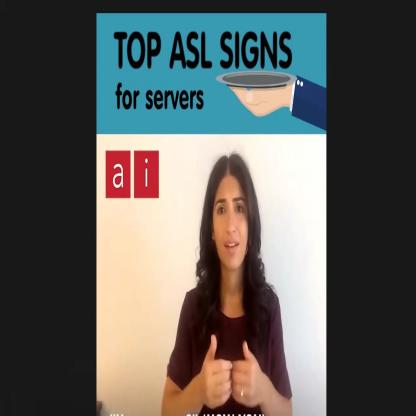HowAreYou: (187, 315, 270, 416)
